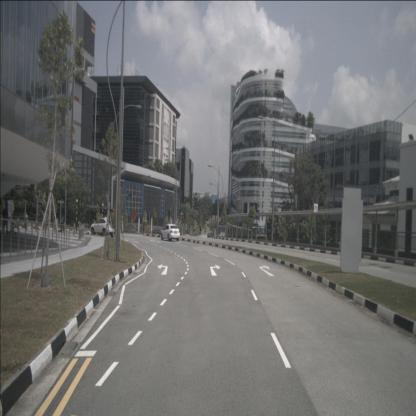human-pedestrian-adult: (1, 202, 10, 235), (60, 214, 64, 233), (276, 223, 280, 242), (184, 222, 188, 235), (198, 225, 202, 237), (273, 225, 276, 241)
vehicle-bicycle: (4, 221, 20, 240)
vehicle-car: (90, 217, 116, 237), (160, 223, 180, 242), (153, 226, 162, 235), (207, 233, 212, 238)
